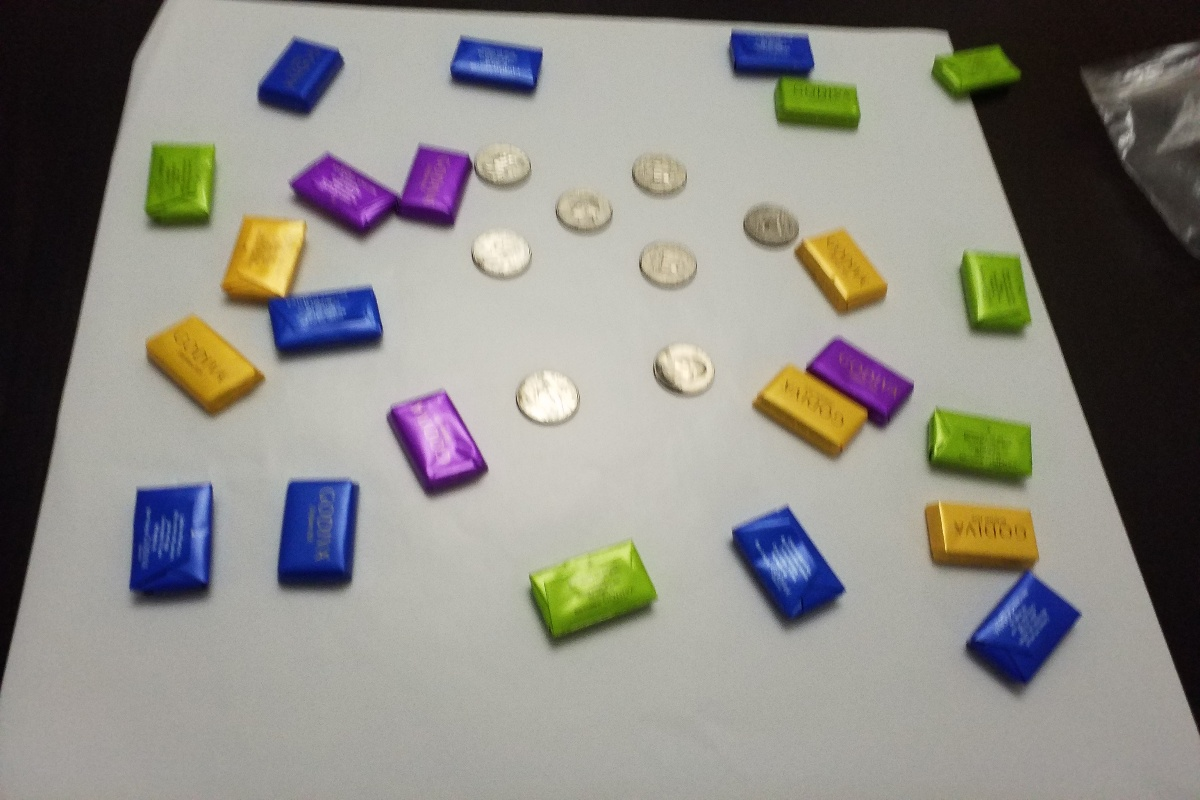chocolate_blue: (722, 494, 859, 630), (947, 566, 1086, 699), (120, 475, 220, 614), (265, 470, 369, 600), (245, 23, 356, 130), (267, 291, 395, 370), (443, 26, 554, 110), (714, 25, 832, 80)
chocolate_green: (519, 530, 673, 640), (930, 397, 1039, 492), (140, 137, 224, 233), (955, 243, 1031, 344), (756, 76, 868, 138)
chocolate_purple: (373, 382, 502, 504)
chocolate_yellow: (139, 307, 275, 430), (915, 494, 1051, 576), (219, 208, 315, 308), (795, 232, 890, 321)
coin_quarter: (505, 358, 585, 431), (647, 335, 720, 408), (464, 229, 538, 296), (547, 180, 620, 245), (627, 237, 702, 296), (732, 193, 802, 256), (624, 147, 690, 209), (472, 135, 536, 197)
